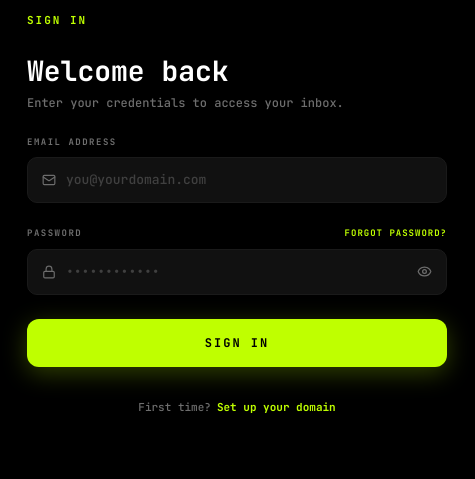
LoginPage › flags invalid email format
Type "bad-email" into the field with placeholder "you@yourdomain.com".
click(249, 180); type("bad-email")  # box [66, 170, 432, 190]
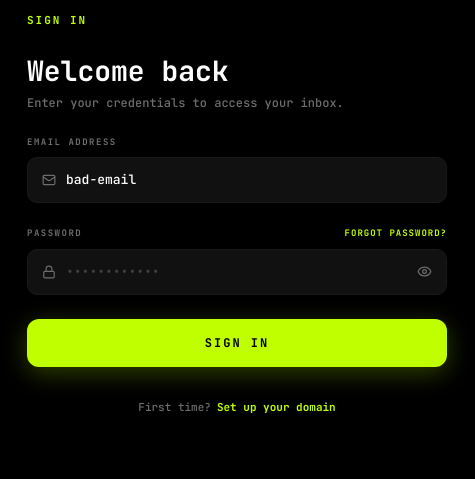
Submit the form with placeholder "you@yourdomain.com"
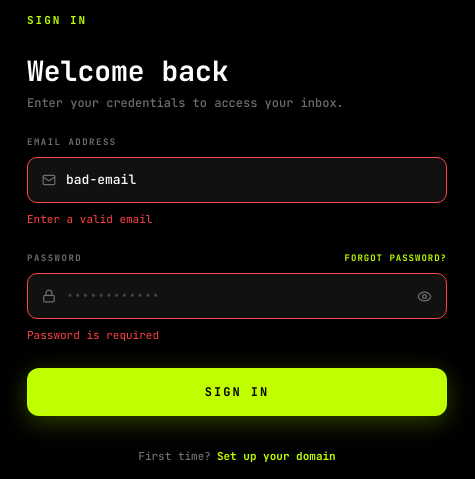
Expected: the text "Enter a valid email" is shown, [27, 212, 152, 226]
